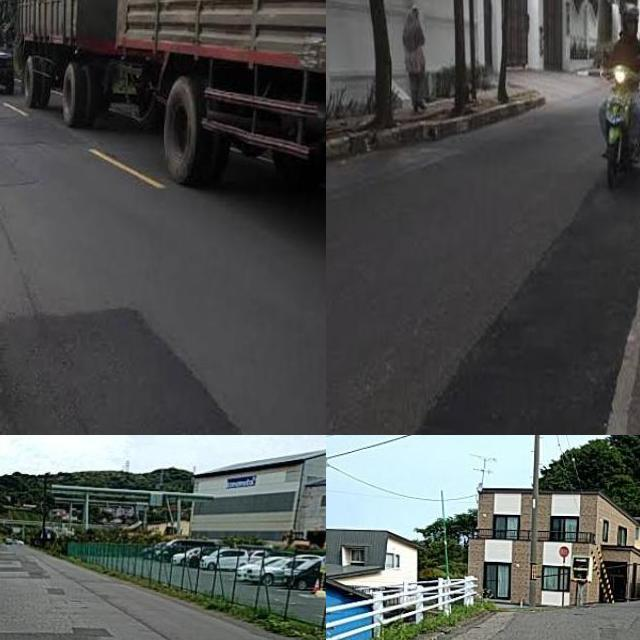Sambungan: (415, 123, 640, 435), (0, 305, 247, 435), (0, 627, 106, 640)
